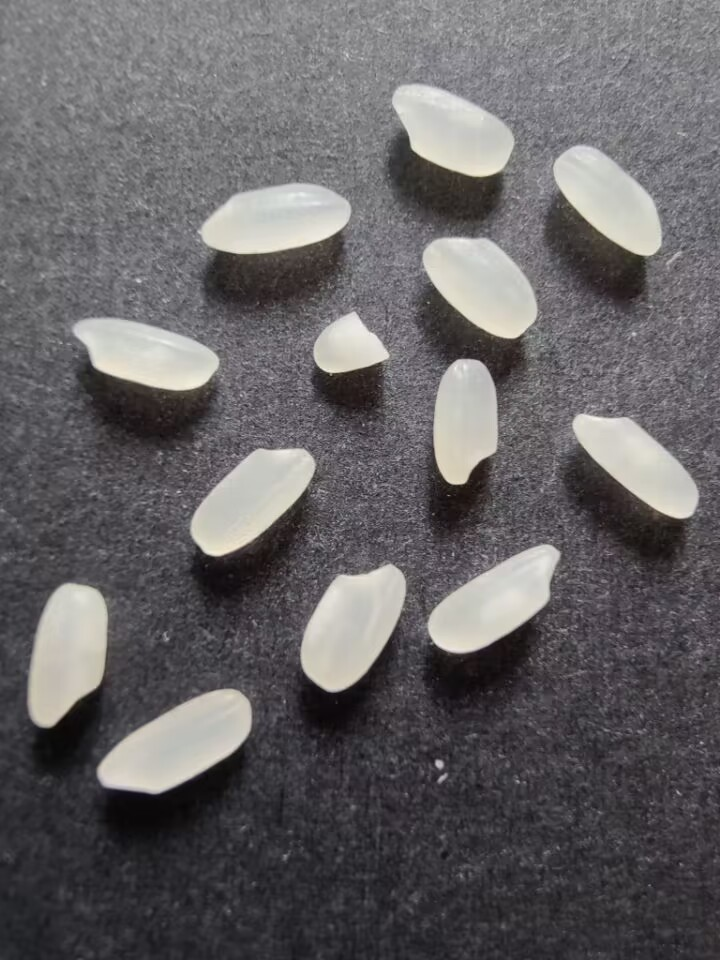broken: (308, 308, 391, 377)
rice: (93, 686, 258, 797), (423, 538, 565, 655), (185, 443, 318, 562), (569, 406, 703, 524), (295, 559, 408, 696), (27, 578, 112, 736), (419, 233, 543, 341), (549, 141, 663, 256), (387, 78, 516, 179), (195, 178, 354, 259), (65, 317, 224, 397), (427, 355, 500, 492)
